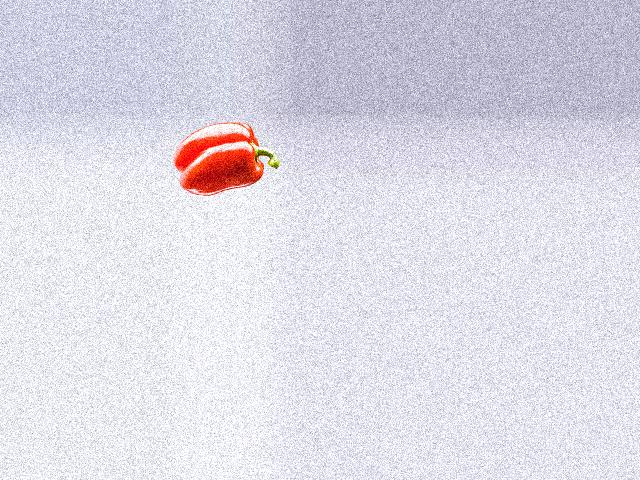bell_pepper: (176, 118, 280, 197)
